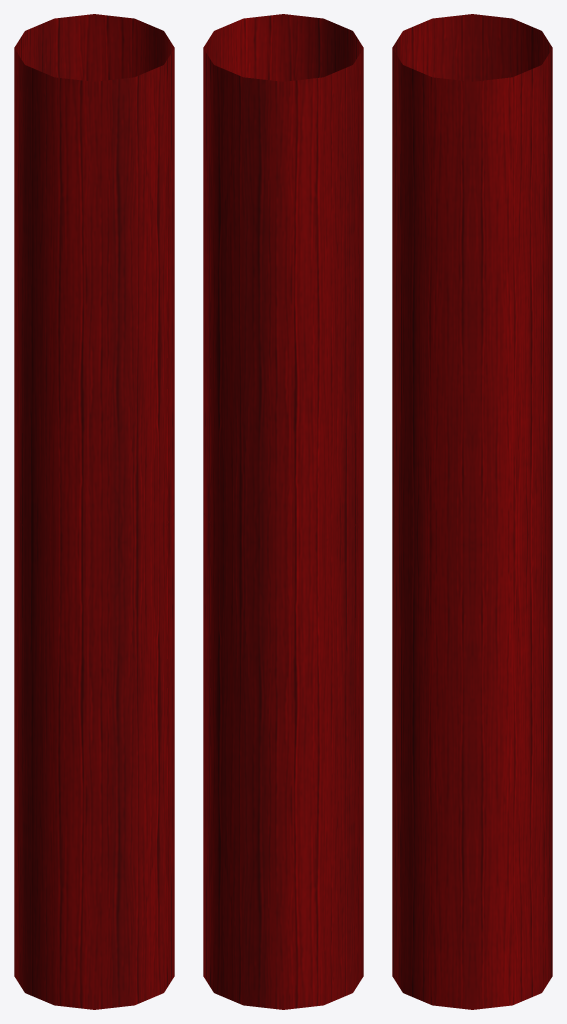
The model's file is Pillar01.fbx.
3 renders of one model, left to right at view 1: azimuth 30°, elevation 25°; view 2: azimuth 150°, elevation 25°; view 3: azimuth 270°, elevation 25°, orthographic.
Visible parts, largest first — view 1: Pillar01; view 2: Pillar01; view 3: Pillar01.
Boxes of the visible parts, x1,y1,x2,y2 form: Pillar01: (14, 14, 174, 1009); Pillar01: (203, 14, 363, 1009); Pillar01: (392, 14, 552, 1009).
Bounding box in the file's own units: 0.1568 × 1 × 0.1568.
